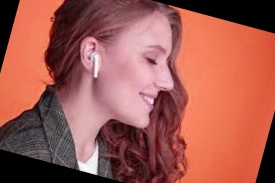earphone: (73, 35, 108, 79)
